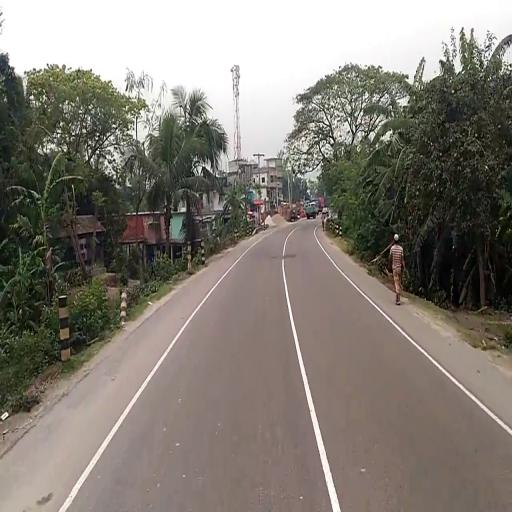car: (323, 207, 329, 216)
truck: (305, 203, 317, 219)
